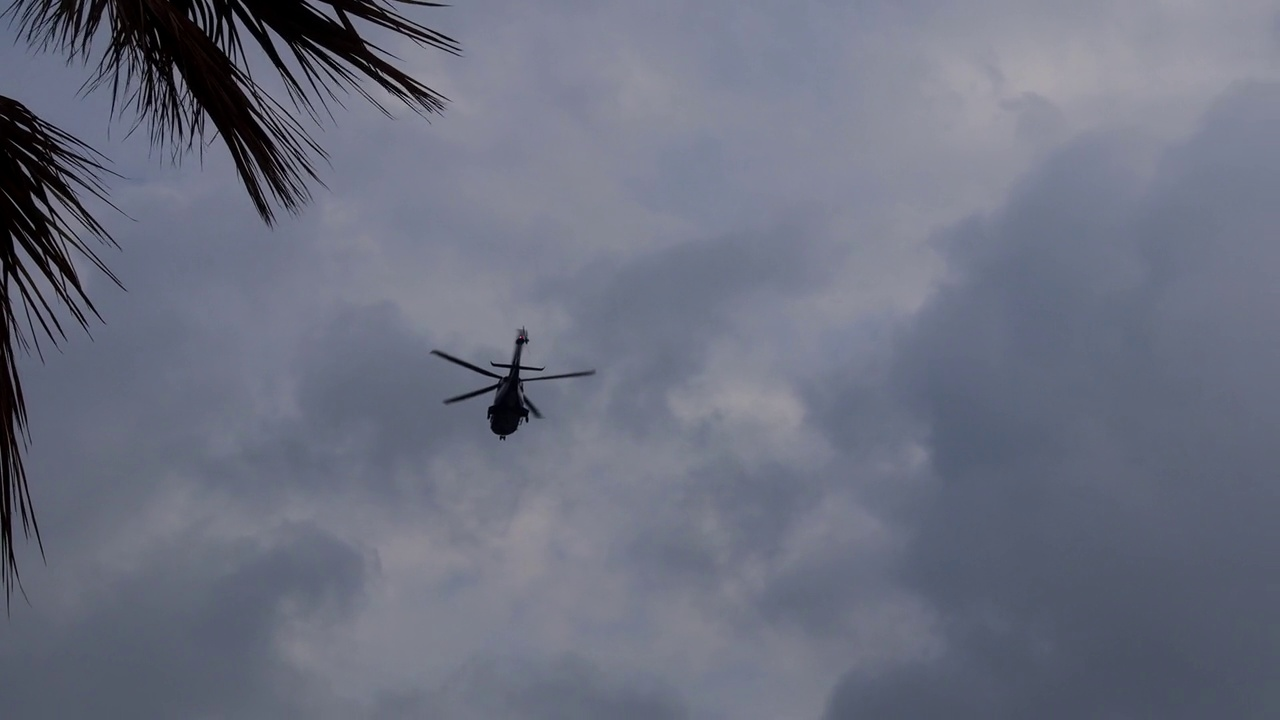heli: (430, 326, 595, 441)
